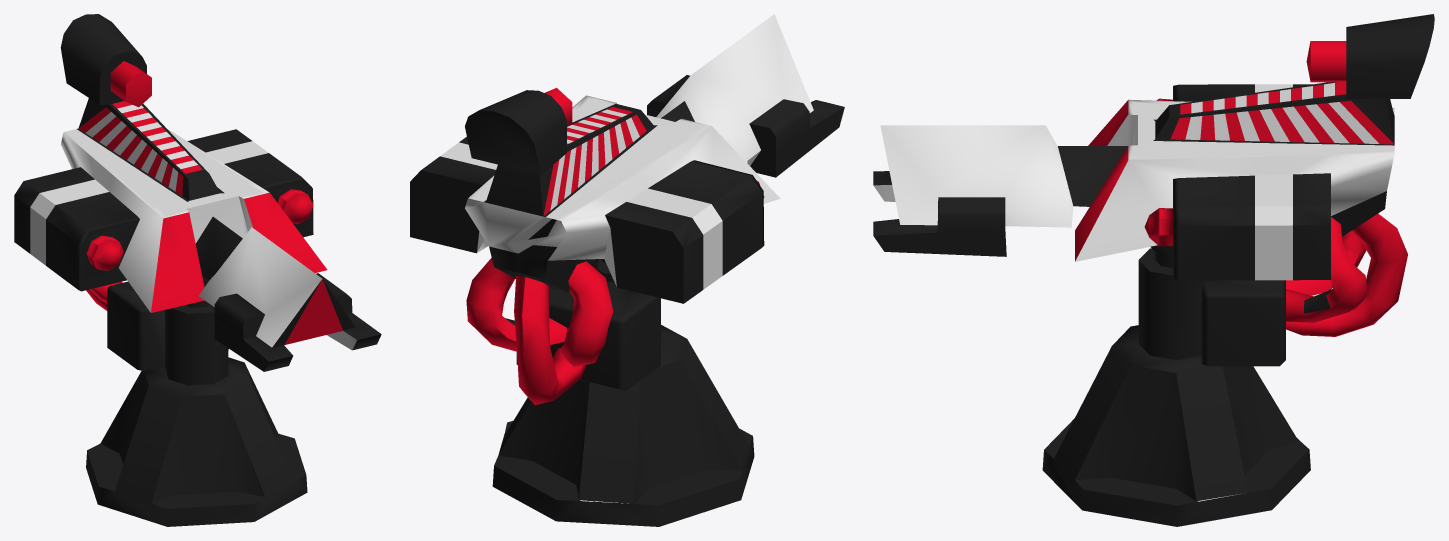
File: LaserTurret2.fbx
3 views of the same model, side by side, from view 1: azimuth 30°, elevation 25°; view 2: azimuth 150°, elevation 25°; view 3: azimuth 270°, elevation 25° (orthographic). The views are drawn at different scales.
Parts seen in each view (by area): view 1: polySurface9; view 2: polySurface9; view 3: polySurface9.
Part boxes in pixels (box(x1,y1,x2,y2)): polySurface9: box(14, 14, 381, 526); polySurface9: box(410, 14, 844, 526); polySurface9: box(873, 14, 1434, 526).
Size of the model in its own units: 168 by 264 by 298.
